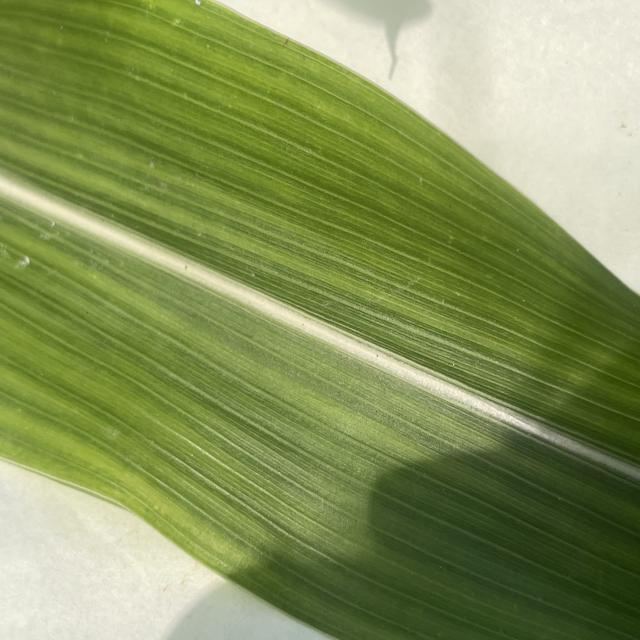millet_healthy: (0, 0, 640, 631)
